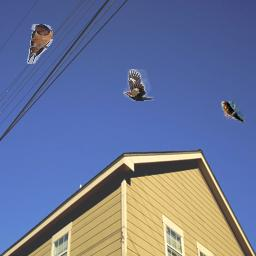Swallow: (27, 24, 53, 64), (221, 101, 245, 123)
Woodpecker: (123, 69, 154, 101)
